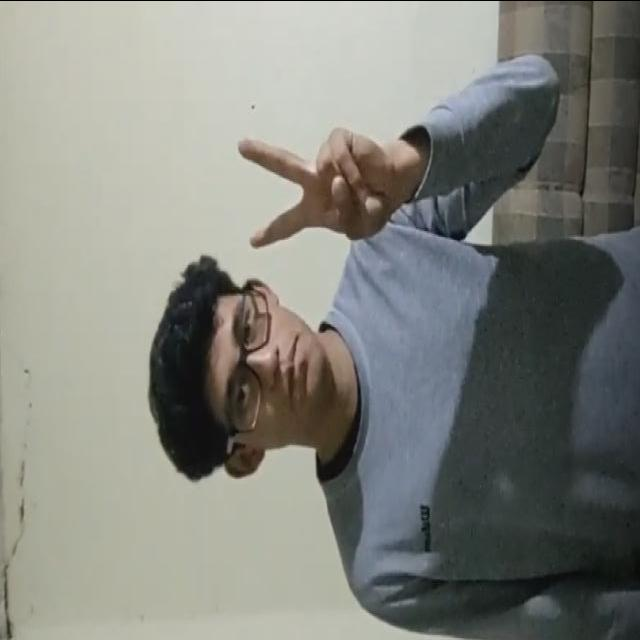V: (228, 112, 396, 274)
